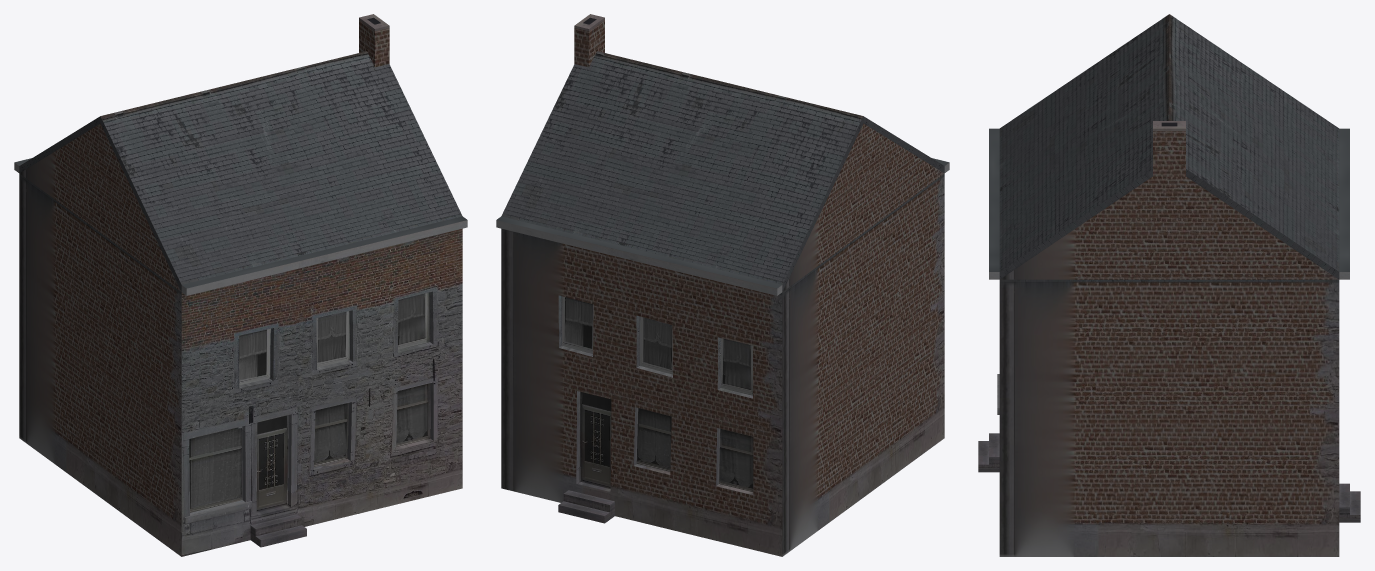
Rendered from cottage.glb.
The picture shows the model from 3 angles, left to right: view 1: azimuth 30°, elevation 25°; view 2: azimuth 150°, elevation 25°; view 3: azimuth 270°, elevation 25°; orthographic projection. The views are drawn at different scales.
Visible parts, largest first — view 1: m; view 2: m; view 3: m.
Part boxes in pixels (x1,y1,x2,y2): m: (14,14,467,556); m: (496,14,949,556); m: (978,14,1360,556).
Bounding box in the file's own units: 8 × 11.14 × 9.
Materials: 1 (1 with a texture image).
